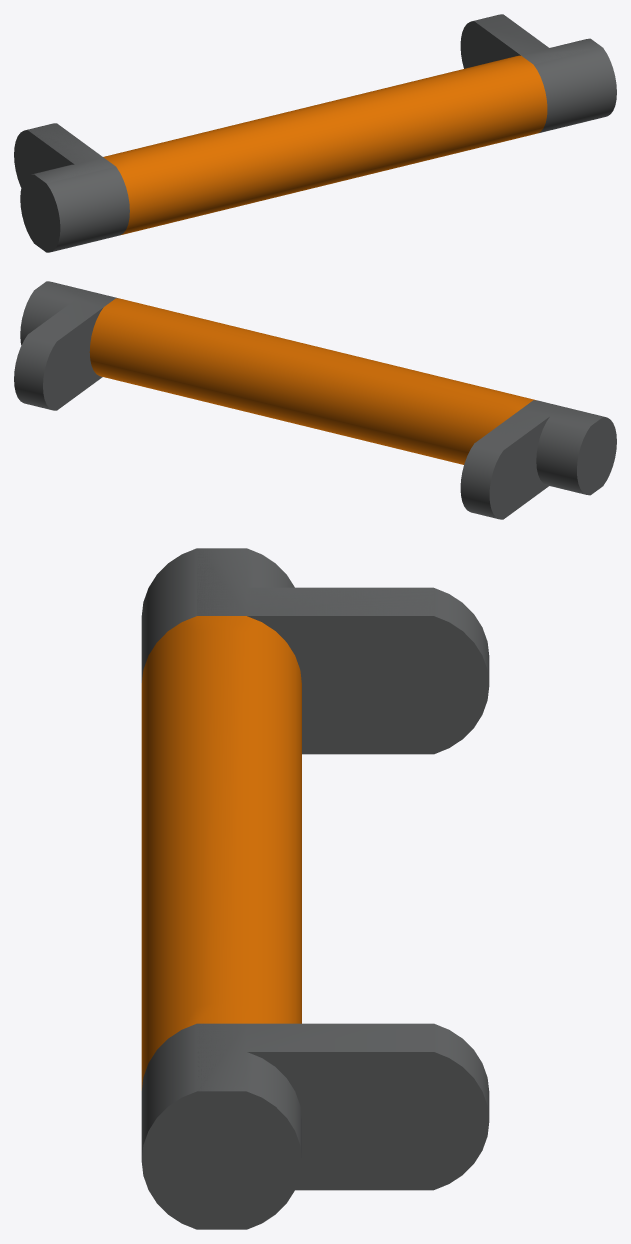
3 views of the same model, one above another, from view 1: azimuth 30°, elevation 25°; view 2: azimuth 150°, elevation 25°; view 3: azimuth 270°, elevation 25° (orthographic). The views are drawn at different scales.
Parts seen in each view (by area): view 1: f2_LOD0, f2_col; view 2: f2_LOD0, f2_col; view 3: f2_LOD0, f2_col.
Boxes of the visible parts, x1,y1,x2,y2 form: f2_LOD0: (14, 14, 616, 252); f2_col: (14, 14, 601, 252); f2_LOD0: (14, 281, 616, 519); f2_col: (28, 281, 616, 519); f2_LOD0: (141, 548, 489, 1229); f2_col: (141, 548, 488, 1229).
Size of what is drawn, in the model's own units: 96.09 by 11.93 by 26.
